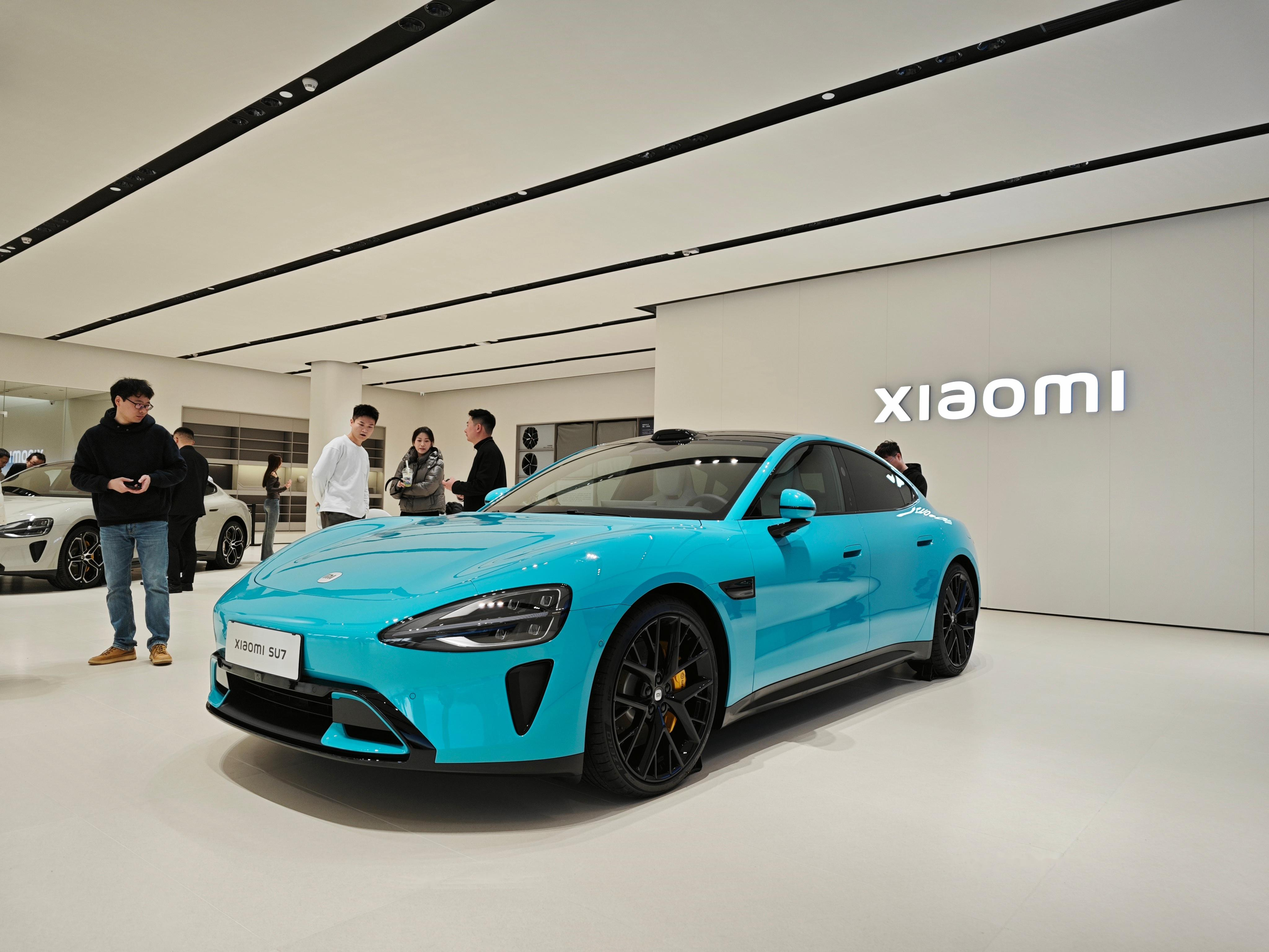su7: (206, 427, 981, 791), (0, 456, 257, 566)
